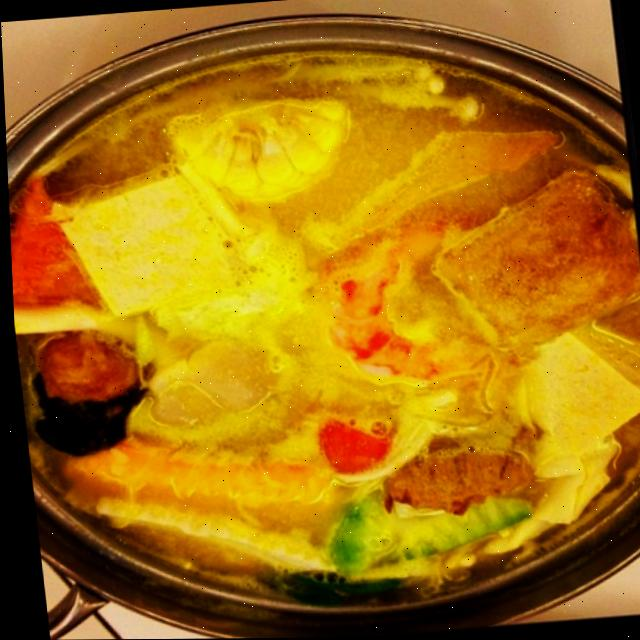汤锅炖物: (1, 16, 640, 635)
